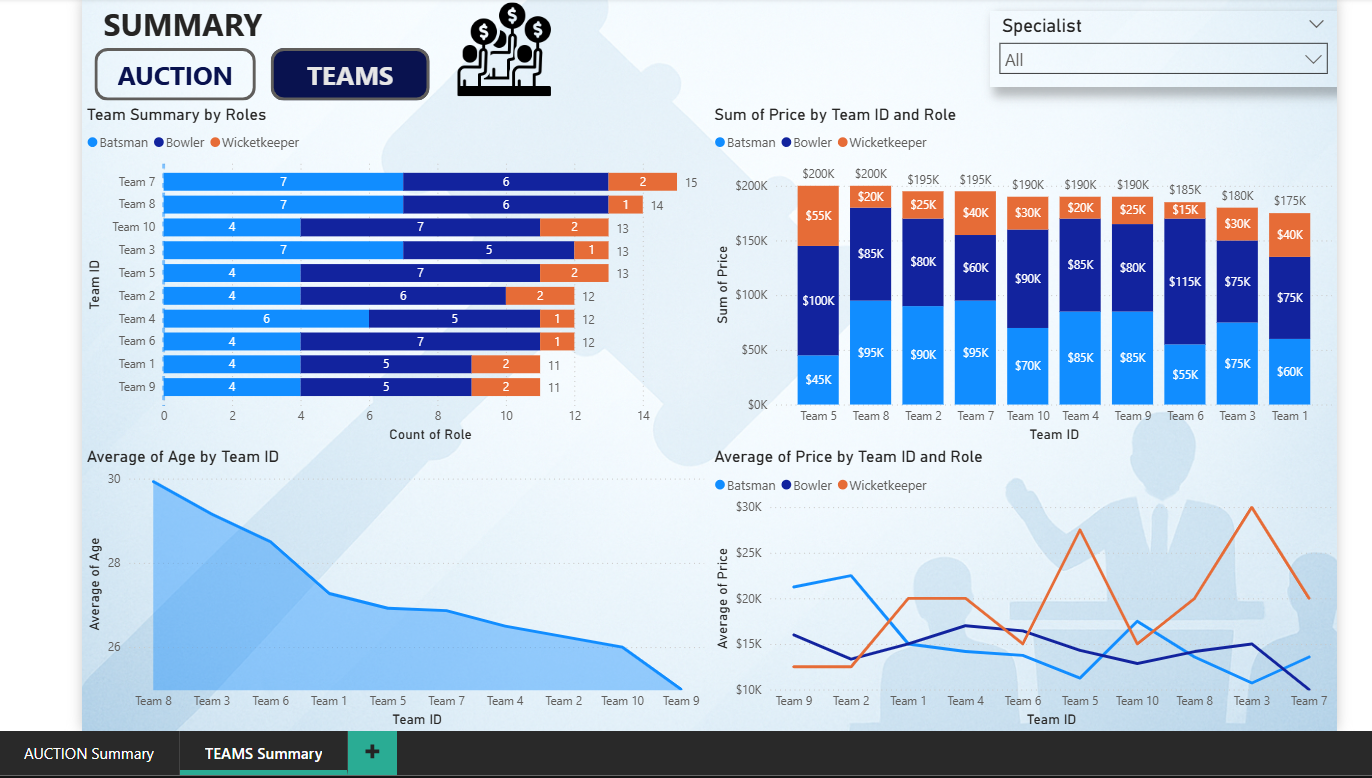

The dashboard page shown, as its layout file describes it:
{"tool":"powerbi","page":{"name":"TEAMS Summary","canvas":[1300,760],"ordinal":1},"visuals":[{"type":"barChart","title":"Team Summary by Roles","fields":{"Category":["Auction_Log.Team ID"],"Y":["CountNonNull(Player_List.Role)"],"Series":["Player_List.Role"]},"box":[0,110.1,650.2,354.9],"z":0},{"type":"areaChart","fields":{"Y":["Avg(Player_List.Age)"],"Category":["Auction_Log.Team ID"]},"box":[0,465,650.2,295.3],"z":1000},{"type":"slicer","fields":{"Values":["Player_List.Specialist"]},"box":[940.3,13,360.1,79],"z":2000},{"type":"columnChart","title":"Sum of Price by Team ID and Role","fields":{"Category":["Auction_Log.Team ID"],"Y":["Sum(Auction_Log.Price)"],"Series":["Auction_Log.Role"]},"box":[650.2,110.1,650.2,354.9],"z":3000},{"type":"lineChart","fields":{"Category":["Auction_Log.Team ID"],"Y":["Avg(Auction_Log.Price)"],"Series":["Auction_Log.Role"]},"box":[650.2,465,650.2,295.3],"z":4000},{"type":"actionButton","title":"SUMMARY","box":[13,51.8,167.1,54.4],"z":5000},{"type":"actionButton","box":[195.6,51.8,164.5,54.4],"z":6000},{"type":"image","box":[379.5,0,115.3,106.2],"z":7000},{"type":"textbox","box":[12.9,0,182.9,52.9],"z":8000}]}

Visuals, with their boxes on the page's 1300x760 design canvas (x1, y1, x2, y2). These are canvas units, not pixel positions in the 1372x778 screenshot, which may show the page scaled, cropped or inside an application window:
"Team Summary by Roles" barChart: 0:110:650:465
areaChart - Avg(Player_List.Age) x Auction_Log.Team ID: 0:465:650:760
slicer - Player_List.Specialist: 940:13:1300:92
"Sum of Price by Team ID and Role" columnChart: 650:110:1300:465
lineChart - Auction_Log.Team ID x Avg(Auction_Log.Price): 650:465:1300:760
"SUMMARY" actionButton: 13:52:180:106
actionButton: 196:52:360:106
image: 380:0:495:106
textbox: 13:0:196:53
